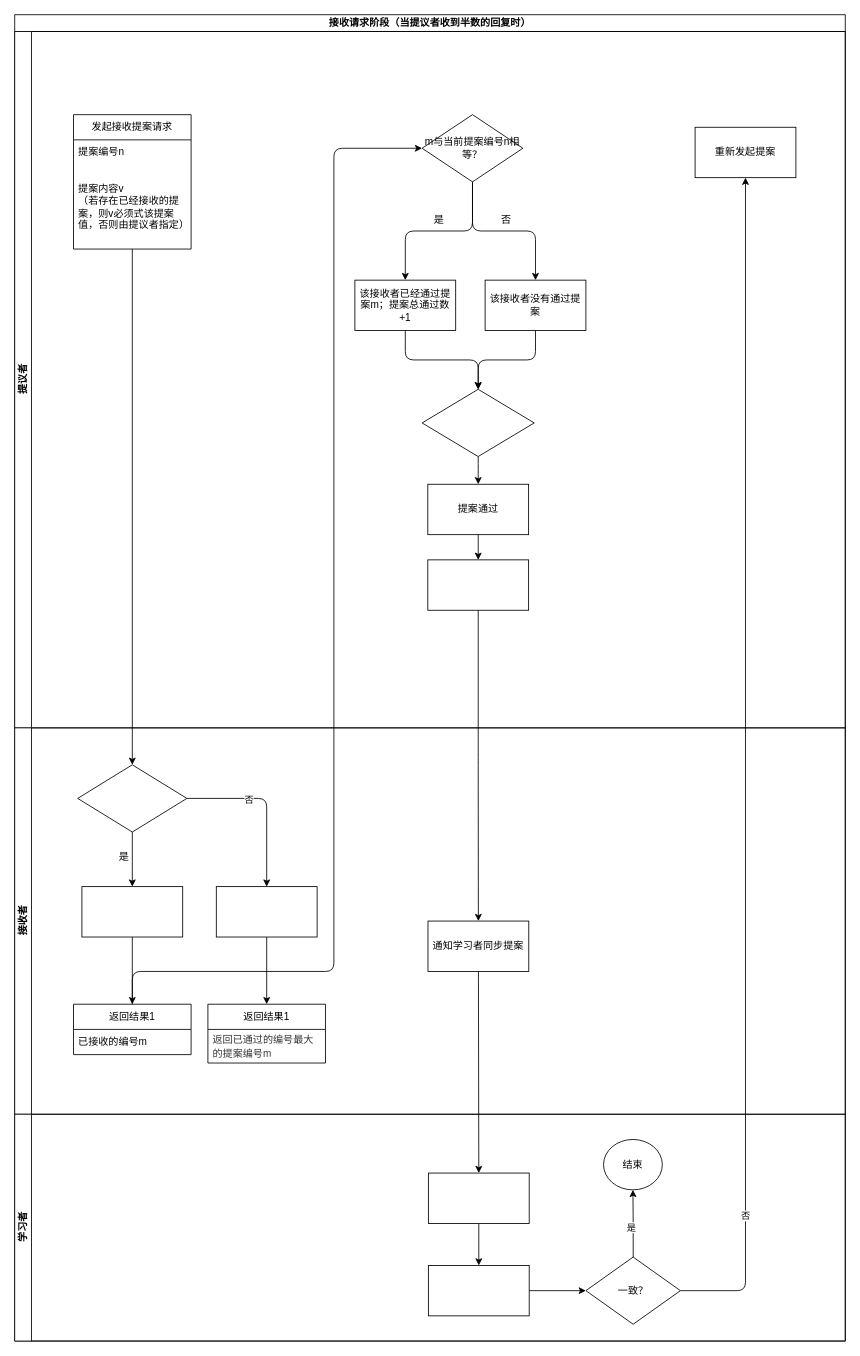
Some shapes in this 860 by 1356 pixel diagram are drawn without their labels. Here are the shapes that lost their labels. From the top down, the centre of each, then its label:
At (x=477, y=422): "通过提案的接收者数量>未通过提案的接收者数量？".
At (x=478, y=584): "发起提案同步请求".
At (x=132, y=798): "验证编号是否是最大编号n？".
At (x=132, y=911): "接收提案，更新当前接收编号m = n".
At (x=266, y=911): "不接收提案n，保留已接收的编号m（当不存在已接收的编号时，m为空）".
At (x=478, y=1197): "提案持久化到本地".
At (x=478, y=1290): "最后一个学习者同步完成后进行全局的一致性检查".
